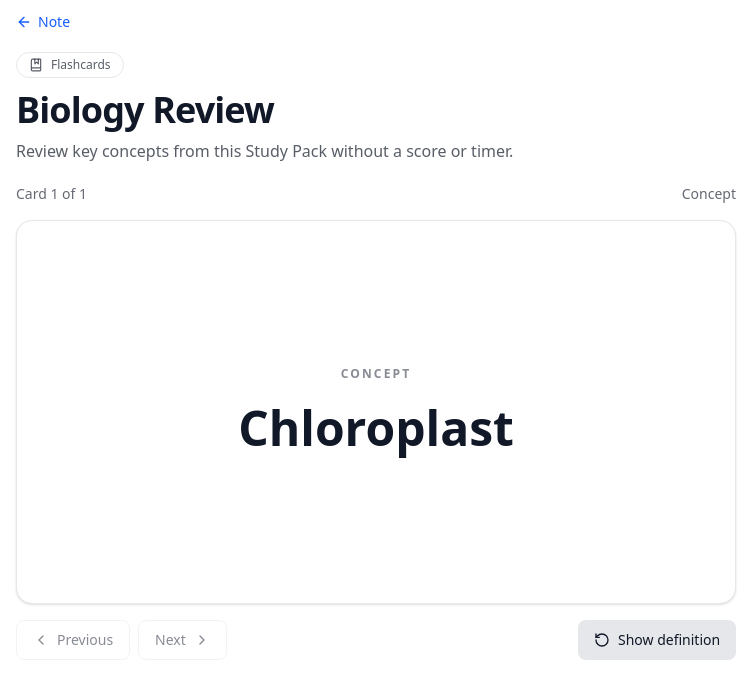
Test case: FlashcardsPageClient › fuzzy-matches a key concept to a differently-worded quiz concept
This screenshot has width=753, height=677.
Expected: the text "Chloroplast" is shown, x1=238 y1=398 x2=514 y2=458
What coordinates should you click on to do the following:
click the button with aria-label "Flip to definition"
I would click on:
 (59, 412)
Its box is x1=16 y1=220 x2=736 y2=604.
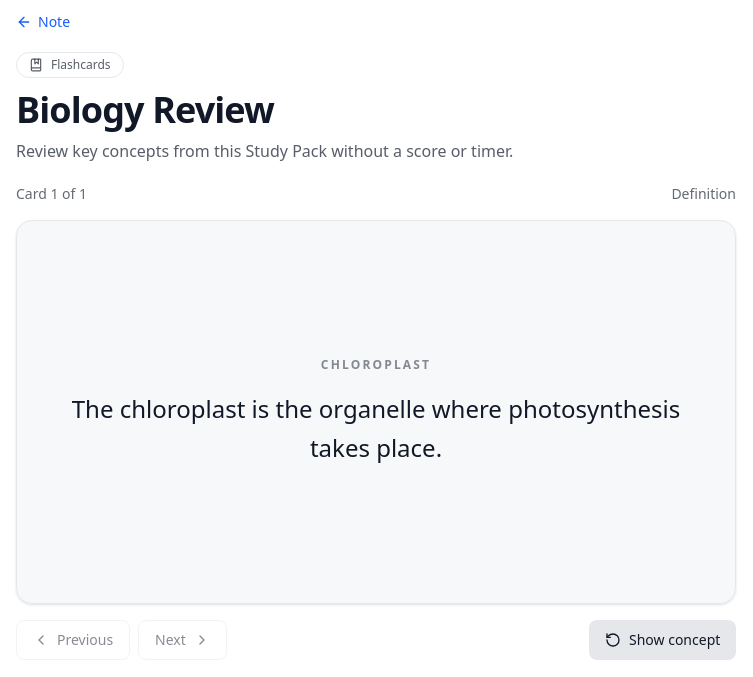
Result: the text "The chloroplast is the organelle where photosynthesis takes place." is shown at x1=57 y1=389 x2=695 y2=467
